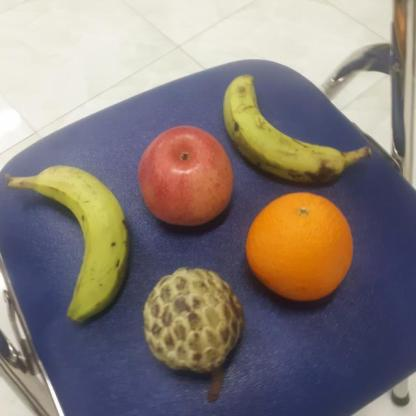annona: (137, 264, 246, 374)
apple: (136, 124, 234, 229)
banana: (28, 162, 133, 324), (220, 70, 348, 186)
orange: (242, 186, 357, 303)
